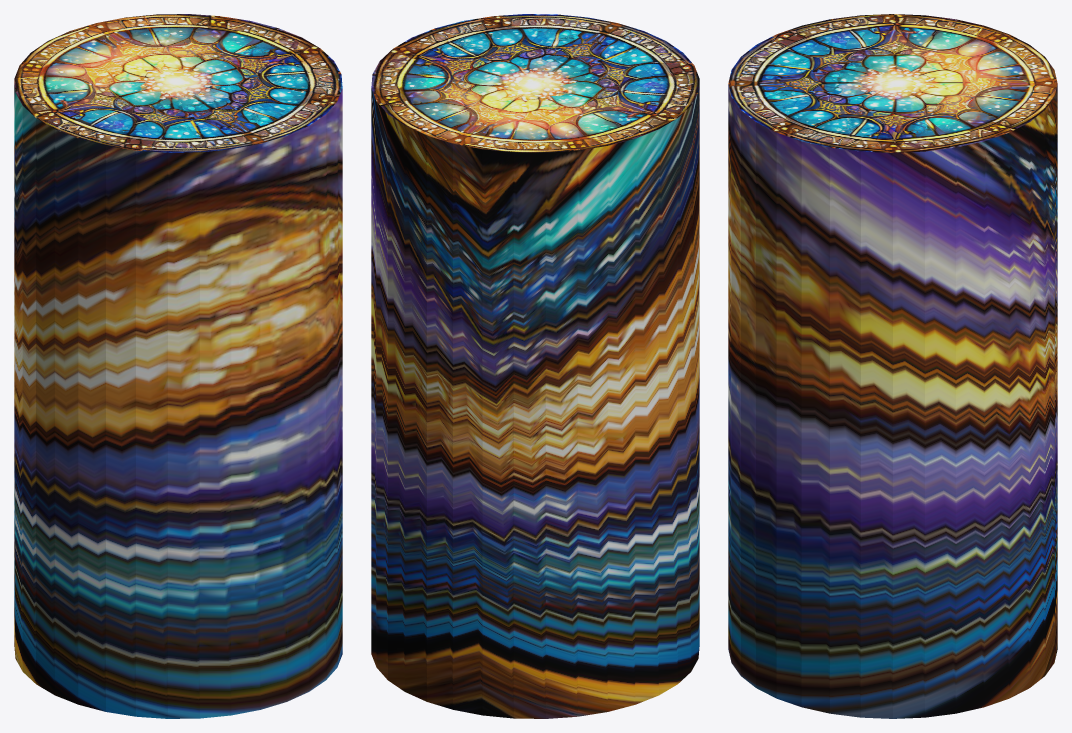
File: MiniGameMap2.fbx
The picture shows the model from 3 angles, left to right: view 1: azimuth 30°, elevation 25°; view 2: azimuth 150°, elevation 25°; view 3: azimuth 270°, elevation 25°; orthographic projection.
Visible parts, largest first — view 1: 円柱.001; view 2: 円柱.001; view 3: 円柱.001.
Boxes of the visible parts, left/top/right/bottom form: 円柱.001: left=14, top=14, right=342, bottom=718; 円柱.001: left=371, top=14, right=699, bottom=718; 円柱.001: left=728, top=14, right=1057, bottom=718.
Bounding box in the file's own units: 900 × 1710 × 901.
